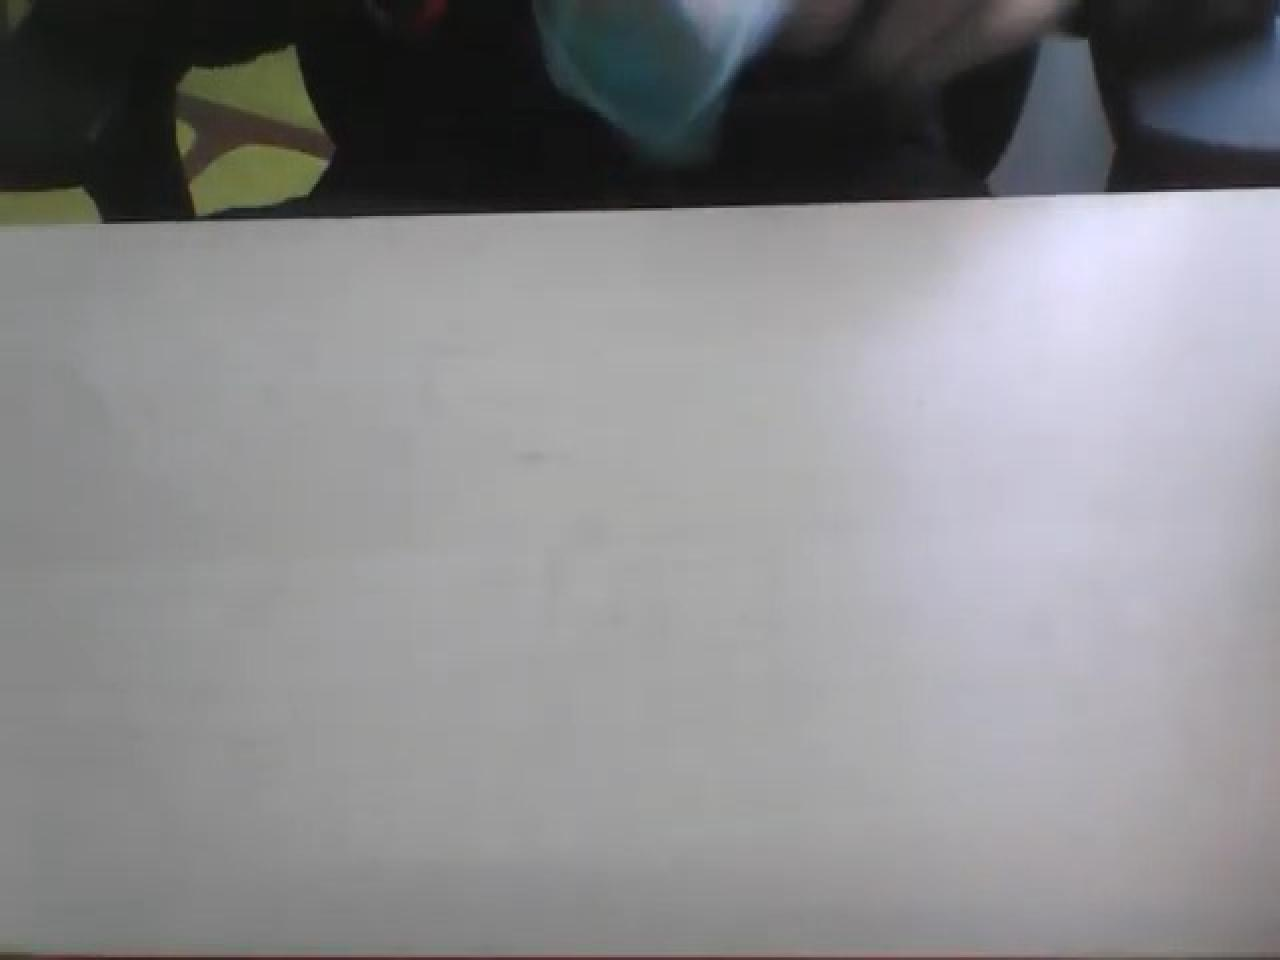100leva: (4, 5, 1278, 952), (6, 0, 1276, 219)
